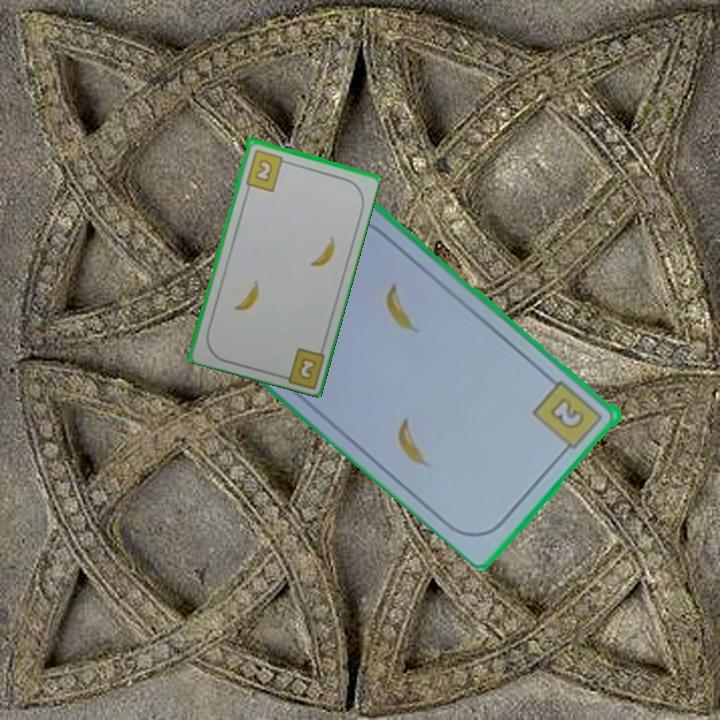2b: (530, 377, 607, 457), (242, 146, 291, 194), (295, 354, 319, 383)
